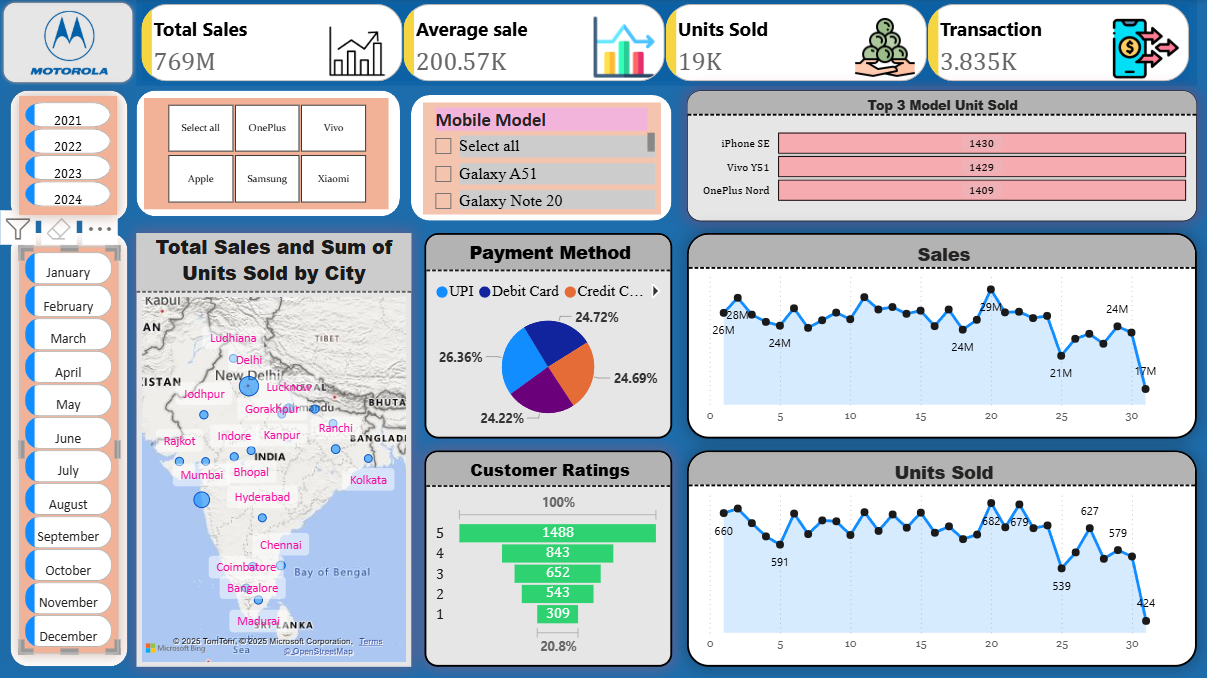

The dashboard page shown, as its layout file describes it:
{"tool":"powerbi","page":{"name":"Report","canvas":[1280,720],"ordinal":0},"visuals":[{"type":"shape","box":[435.8,101.8,276.8,133.6],"z":0},{"type":"shape","box":[144.7,97,279.9,133.6],"z":1000},{"type":"shape","box":[11.1,97,124.1,138.4],"z":2000},{"type":"cardVisual","fields":{"Data":["Sheet1.Total Sales","Sheet1.Average sale","Sum(Sheet1.Units Sold)","CountNonNull(Sheet1.Transaction ID)"]},"box":[144.7,0,1124.6,92.3],"z":3000},{"type":"shape","box":[0,0,144.7,92.3],"z":4000},{"type":"shape","box":[11.1,248.1,124.1,459.7],"z":5000},{"type":"image","box":[11.1,0,124.1,92.3],"z":6000},{"type":"advancedSlicerVisual","fields":{"Values":["Sheet1.Sales Date.Variation.Date Hierarchy.Month"]},"box":[20.7,262.5,105,431.1],"z":7000},{"type":"lineChart","title":"Units Sold ","fields":{"Y":["Sum(Sheet1.Units Sold)"],"Category":["Sheet1.Sales Date.Variation.Date Hierarchy.Day"]},"box":[728.5,478.8,540.8,229],"z":8000},{"type":"map","fields":{"Category":["Sheet1.City"],"Size":["Sheet1.Total Sales"]},"box":[144.7,248.1,291.1,459.7],"z":9000},{"type":"hundredPercentStackedBarChart","title":"Top 3 Model Unit Sold","fields":{"Category":["Sheet1.Mobile Model"],"Y":["Sum(Sheet1.Units Sold)"]},"box":[728.5,97,540.8,138.4],"z":10000},{"type":"pieChart","title":"Payment Method","fields":{"Category":["Sheet1.Payment Method"],"Y":["CountNonNull(Sheet1.Transaction ID)"]},"box":[450.1,248.1,262.5,217.9],"z":11000},{"type":"funnel","title":"Customer Ratings ","fields":{"Y":["CountNonNull(Sheet1.Customer Ratings)"],"Category":["Sheet1.Customer Ratings"]},"box":[450.1,478.8,262.5,229],"z":12000},{"type":"advancedSlicerVisual","fields":{"Values":["Sheet1.Sales Date.Variation.Date Hierarchy.Year"]},"box":[20.7,103.4,103.4,125.7],"z":14000},{"type":"slicer","title":"Brand","fields":{"Values":["Sheet1.Brand"]},"box":[152.7,105,259.3,117.7],"z":15000},{"type":"lineChart","title":"Sales","fields":{"Category":["Sheet1.Sales Date.Variation.Date Hierarchy.Day"],"Y":["Sheet1.Total Sales"]},"box":[728.5,248.1,540.8,217.9],"z":16000},{"type":"slicer","fields":{"Values":["Sheet1.Mobile Model"]},"box":[448.6,109.8,251.3,117.7],"z":17000}]}

Visuals, with their boxes in screenshot pixels (x1, y1, x2, y2), scaled from the page's 1280x720 canvas onto the 1207x678 screenshot:
shape: bbox=(411, 96, 672, 222)
shape: bbox=(136, 91, 400, 217)
shape: bbox=(10, 91, 127, 222)
cardVisual - Sheet1.Total Sales x Sheet1.Average sale: bbox=(136, 0, 1197, 87)
shape: bbox=(0, 0, 136, 87)
shape: bbox=(10, 234, 127, 667)
image: bbox=(10, 0, 127, 87)
advancedSlicerVisual - Sheet1.Sales Date.Variation.Date Hierarchy.Month: bbox=(20, 247, 119, 653)
"Units Sold " lineChart: bbox=(687, 451, 1197, 667)
map - Sheet1.City x Sheet1.Total Sales: bbox=(136, 234, 411, 667)
"Top 3 Model Unit Sold" hundredPercentStackedBarChart: bbox=(687, 91, 1197, 222)
"Payment Method" pieChart: bbox=(424, 234, 672, 439)
"Customer Ratings " funnel: bbox=(424, 451, 672, 667)
advancedSlicerVisual - Sheet1.Sales Date.Variation.Date Hierarchy.Year: bbox=(20, 97, 117, 216)
"Brand" slicer: bbox=(144, 99, 389, 210)
"Sales" lineChart: bbox=(687, 234, 1197, 439)
slicer - Sheet1.Mobile Model: bbox=(423, 103, 660, 214)
